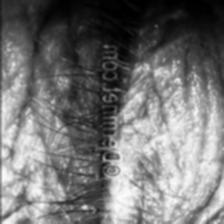Toxin: (138, 0, 188, 224), (0, 110, 43, 224)
